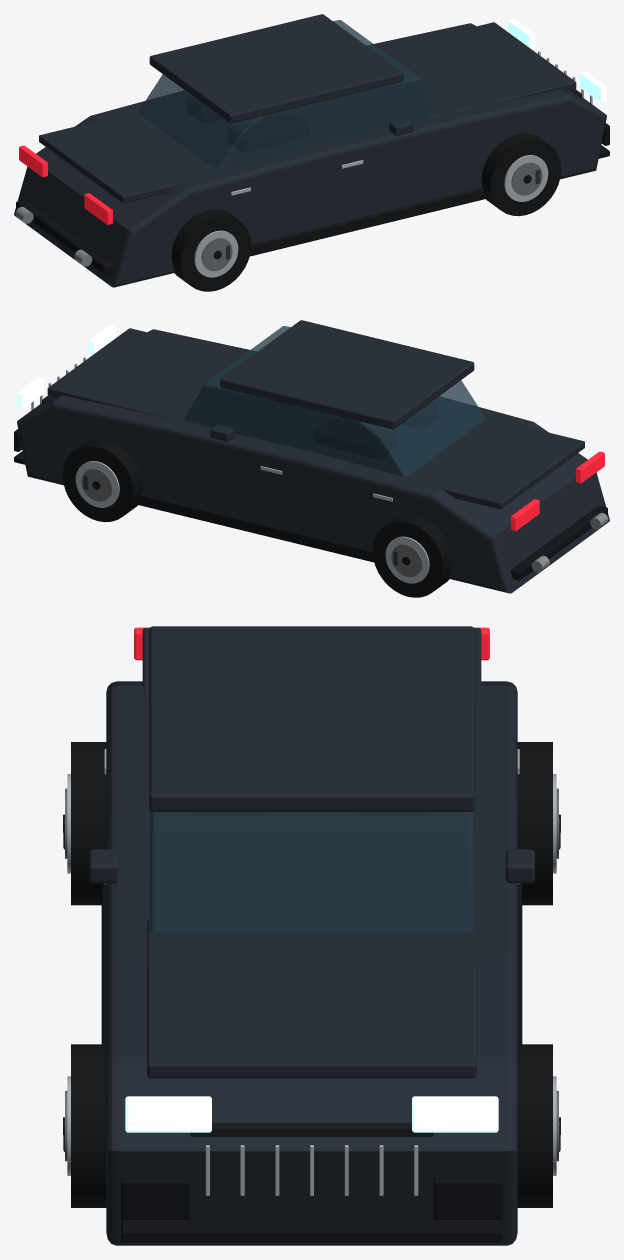
Rendered from midnight-sedan.glb.
The picture shows the model from 3 angles, top to bottom: view 1: azimuth 30°, elevation 25°; view 2: azimuth 150°, elevation 25°; view 3: azimuth 270°, elevation 25°; orthographic projection. The views are drawn at different scales.
Parts seen in each view (by area): view 1: sculpted_body, roof, glasshouse, hood_center, rear_deck, rear_right_wheel_tire, front_right_wheel_tire, side_skirt_1, seat_1, rear_diffuser, rear_right_wheel_rim, front_right_wheel_rim (+7 smaller); view 2: sculpted_body, roof, glasshouse, hood_center, rear_deck, rear_left_wheel_tire, front_left_wheel_tire, side_skirt_-1, seat_-1, rear_diffuser, rear_left_wheel_rim, front_left_wheel_rim (+7 smaller); view 3: sculpted_body, roof, hood_center, glasshouse, front_splitter, front_left_wheel_tire, front_right_wheel_tire, rear_left_wheel_tire, rear_right_wheel_tire, headlight_left, headlight_right, front_grille (+7 smaller).
Boxes of the visible parts, x1,y1,x2,y2 form: sculpted_body: [14, 23, 606, 287]; roof: [149, 14, 403, 123]; glasshouse: [138, 20, 439, 170]; hood_center: [375, 22, 576, 118]; rear_deck: [39, 116, 199, 203]; rear_right_wheel_tire: [171, 209, 251, 291]; front_right_wheel_tire: [481, 133, 561, 216]; side_skirt_1: [249, 188, 487, 256]; seat_1: [227, 113, 308, 152]; rear_diffuser: [16, 199, 112, 274]; rear_right_wheel_rim: [194, 230, 238, 277]; front_right_wheel_rim: [504, 155, 548, 201]; sculpted_body: [17, 329, 609, 593]; roof: [220, 320, 474, 429]; glasshouse: [184, 326, 485, 476]; hood_center: [47, 328, 248, 424]; rear_deck: [424, 422, 584, 509]; rear_left_wheel_tire: [372, 515, 452, 597]; front_left_wheel_tire: [62, 439, 142, 522]; side_skirt_-1: [136, 494, 374, 562]; seat_-1: [315, 419, 396, 458]; rear_diffuser: [511, 505, 607, 580]; rear_left_wheel_rim: [385, 536, 429, 583]; front_left_wheel_rim: [75, 461, 119, 507]; sculpted_body: [106, 681, 517, 1245]; roof: [149, 626, 474, 812]; hood_center: [147, 919, 476, 1078]; glasshouse: [150, 811, 473, 931]; front_splitter: [121, 1219, 502, 1242]; front_left_wheel_tire: [517, 1044, 552, 1207]; front_right_wheel_tire: [71, 1044, 106, 1207]; rear_left_wheel_tire: [517, 742, 552, 905]; rear_right_wheel_tire: [71, 742, 106, 905]; headlight_left: [412, 1096, 498, 1132]; headlight_right: [125, 1096, 211, 1132]; front_grille: [190, 1123, 433, 1136].
Size of the model in its own units: 5.26 by 1.49 by 2.19.
